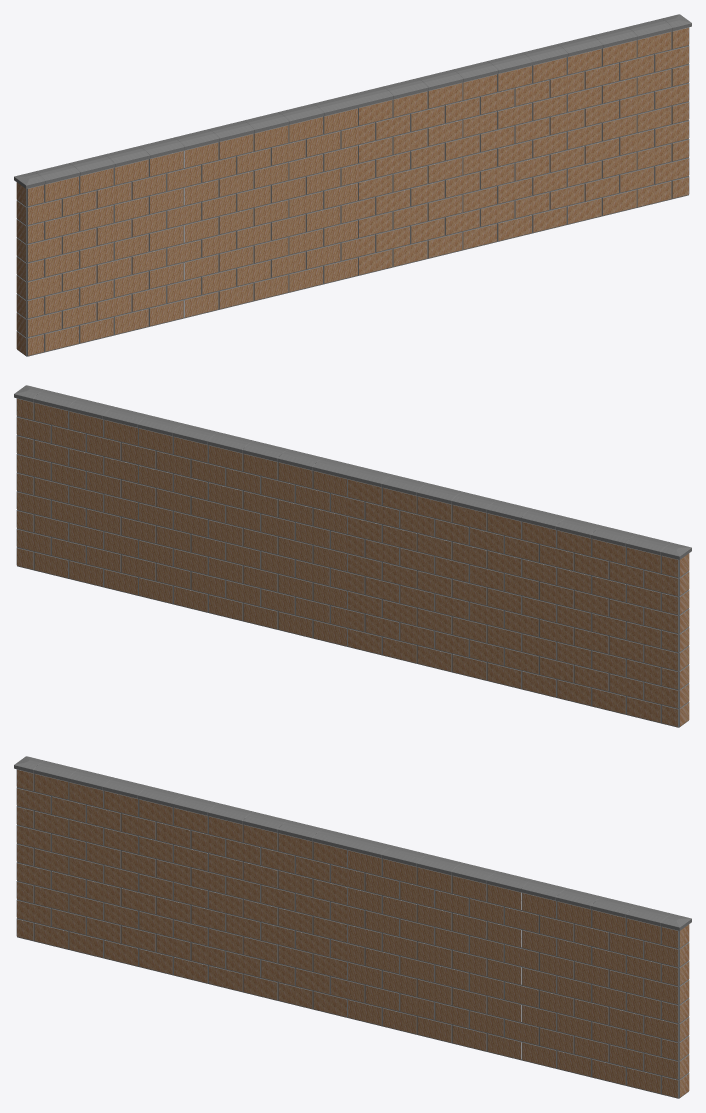
The model's file is weiqiang1.glb.
The picture shows the model from 3 angles, top to bottom: view 1: azimuth 30°, elevation 25°; view 2: azimuth 150°, elevation 25°; view 3: azimuth 330°, elevation 25°; orthographic projection.
Visible parts, largest first — view 1: 对象011, 对象005, 对象006, 对象012, 对象002, 对象010, 对象009; view 2: 对象007, 对象013, 对象002, 对象010, 对象014, 对象008, 对象009; view 3: 对象005, 对象011, 对象012, 对象006, 对象010, 对象002, 对象015.
Boxes of the visible parts, x1,y1,x2,y2 form: 对象011: (515, 28, 688, 236); 对象005: (28, 146, 201, 355); 对象006: (201, 108, 358, 313); 对象012: (358, 70, 514, 274); 对象002: (14, 95, 358, 356); 对象010: (347, 14, 691, 275); 对象009: (16, 182, 25, 355); 对象007: (347, 479, 626, 713); 对象013: (68, 411, 347, 645); 对象002: (347, 466, 691, 727); 对象010: (14, 385, 358, 646); 对象014: (17, 399, 68, 577); 对象008: (626, 547, 677, 726); 对象009: (680, 553, 689, 726); 对象005: (17, 770, 190, 978); 对象011: (504, 888, 677, 1097); 对象012: (347, 850, 504, 1055); 对象006: (191, 812, 347, 1016); 对象010: (347, 837, 691, 1098); 对象002: (14, 756, 358, 1017); 对象015: (680, 924, 689, 1097).
Bounding box in the file's own units: 0.4079 × 0.1018 × 0.013.
2 materials, 2 textured.
